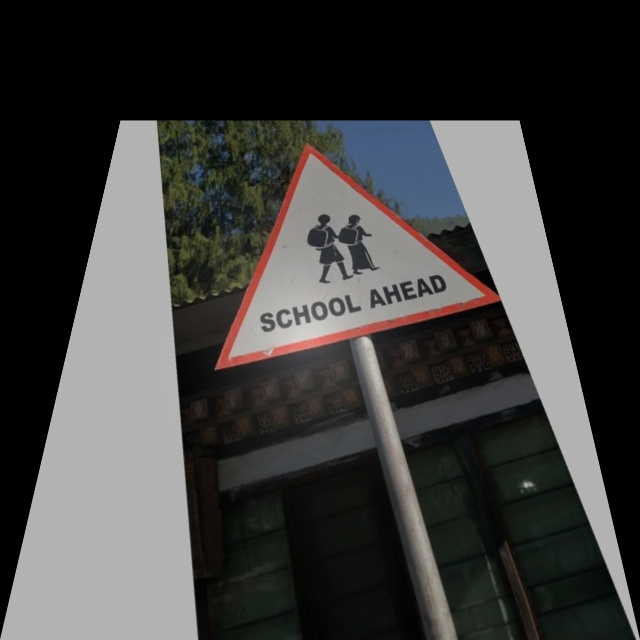School_Ahead: (182, 121, 507, 368)
